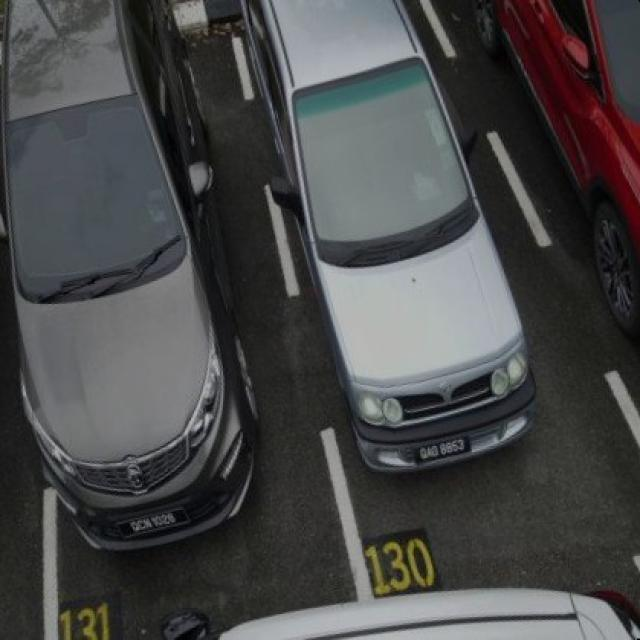Legalparking: (0, 0, 257, 550), (241, 0, 533, 469)
